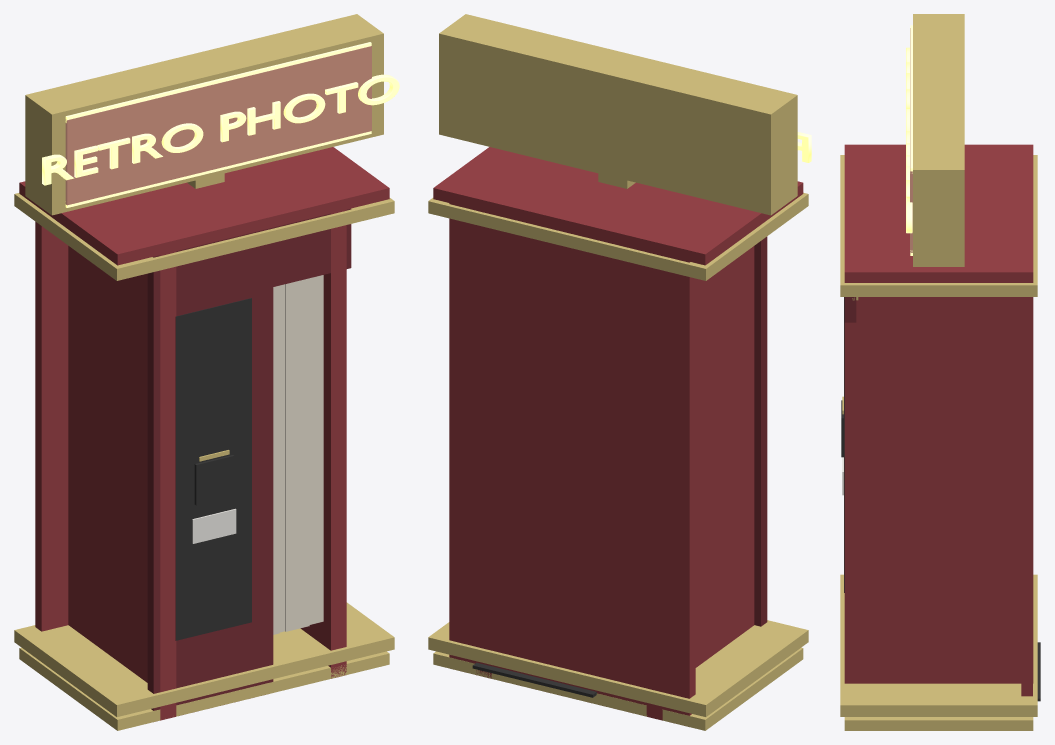
3 renders of one model, left to right at view 1: azimuth 30°, elevation 25°; view 2: azimuth 150°, elevation 25°; view 3: azimuth 270°, elevation 25°, orthographic. The views are drawn at different scales.
Parts seen in each view (by area): view 1: wall_L, front_L, sign_panel, m_frame, roof, sign_body, wall_B, trim_B, wall_R, curtain_3, trim_T, Testo (+9 smaller); view 2: wall_B, sign_body, wall_L, roof, trim_B, wall_R, trim_T, front_L, base, floor_base; view 3: wall_R, roof, sign_body, trim_B, wall_B, trim_T, base, Testo, sg_top.
Boxes of the visible parts, x1=… form: wall_L: x1=68, y1=240, x2=176, y2=720; front_L: x1=147, y1=227, x2=273, y2=710; sign_panel: x1=65, y1=46, x2=371, y2=205; m_frame: x1=175, y1=298, x2=251, y2=640; roof: x1=19, y1=147, x2=389, y2=265; sign_body: x1=25, y1=14, x2=383, y2=215; wall_B: x1=35, y1=221, x2=68, y2=631; trim_B: x1=14, y1=602, x2=394, y2=716; wall_R: x1=300, y1=198, x2=346, y2=678; curtain_3: x1=285, y1=278, x2=309, y2=631; trim_T: x1=14, y1=193, x2=394, y2=280; Testo: x1=42, y1=74, x2=399, y2=185; wall_B: x1=449, y1=203, x2=695, y2=715; sign_body: x1=439, y1=14, x2=797, y2=215; wall_L: x1=646, y1=240, x2=754, y2=720; roof: x1=433, y1=147, x2=803, y2=265; trim_B: x1=428, y1=620, x2=808, y2=716; wall_R: x1=476, y1=198, x2=491, y2=678; trim_T: x1=428, y1=192, x2=808, y2=280; front_L: x1=754, y1=236, x2=767, y2=626; base: x1=433, y1=647, x2=803, y2=730; floor_base: x1=472, y1=662, x2=596, y2=697; wall_R: x1=844, y1=297, x2=1033, y2=683; roof: x1=844, y1=144, x2=1033, y2=282; sign_body: x1=913, y1=14, x2=964, y2=266; trim_B: x1=840, y1=574, x2=1037, y2=716; wall_B: x1=1021, y1=297, x2=1032, y2=696; trim_T: x1=840, y1=155, x2=1037, y2=296; base: x1=844, y1=717, x2=1033, y2=730; Testo: x1=906, y1=47, x2=912, y2=233; sg_top: x1=910, y1=25, x2=912, y2=173.
Bounding box in the file's own units: 1.84 × 2.96 × 0.935.
